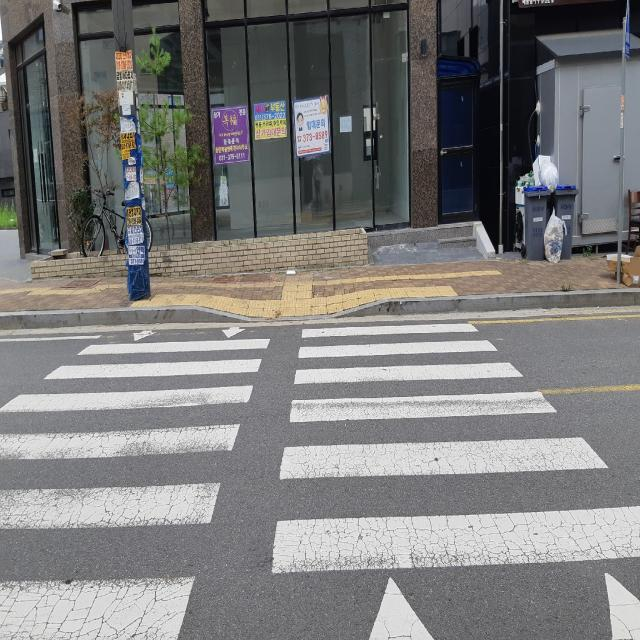횡단보도: (1, 313, 640, 640)
